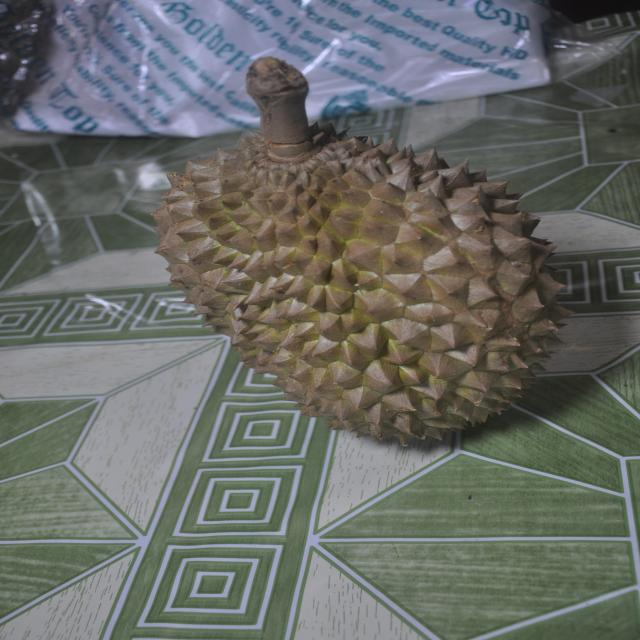mature: (153, 57, 571, 445)
